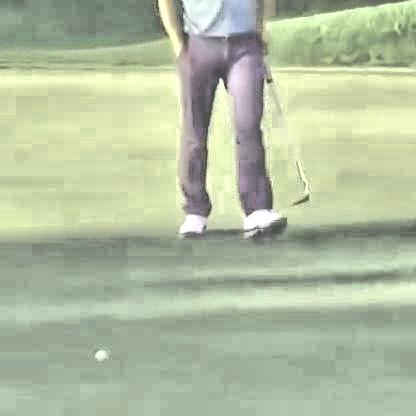golfball: (92, 345, 105, 358)
